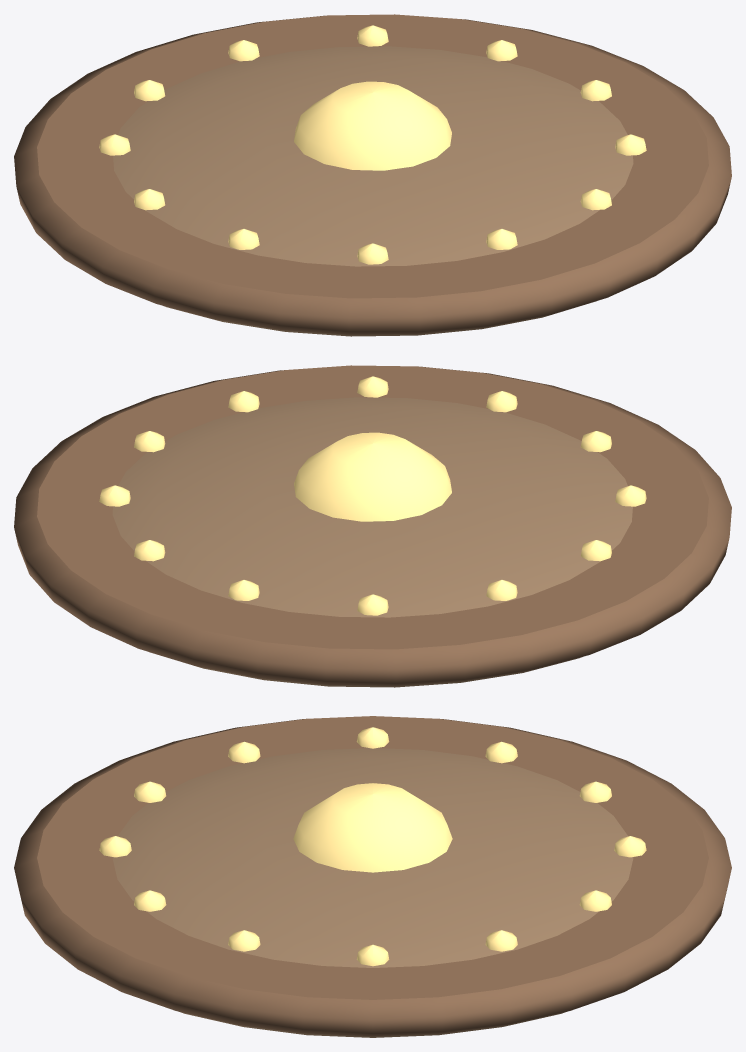
The model's file is shield.glb.
The picture shows the model from 3 angles, top to bottom: view 1: azimuth 30°, elevation 25°; view 2: azimuth 150°, elevation 25°; view 3: azimuth 270°, elevation 25°; orthographic projection.
Parts seen in each view (by area): view 1: W-shield; view 2: W-shield; view 3: W-shield.
Boxes of the visible parts, <box> form: W-shield: <box>14,14,731,336</box>; W-shield: <box>14,365,731,687</box>; W-shield: <box>14,716,731,1037</box>.
Size of the model in its own units: 0.53 by 0.085 by 0.53.
